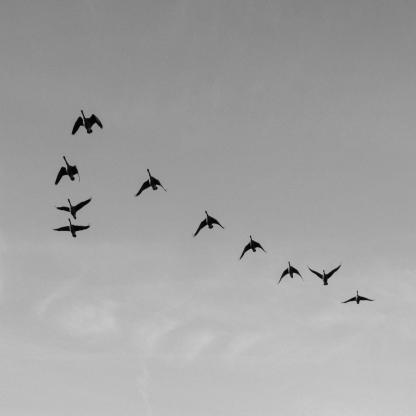bird: (134, 168, 168, 198), (192, 210, 226, 238), (55, 197, 92, 219), (72, 110, 103, 136), (52, 218, 91, 238), (308, 264, 341, 286), (55, 156, 80, 185), (239, 235, 268, 260), (278, 261, 305, 285), (341, 290, 375, 304)
